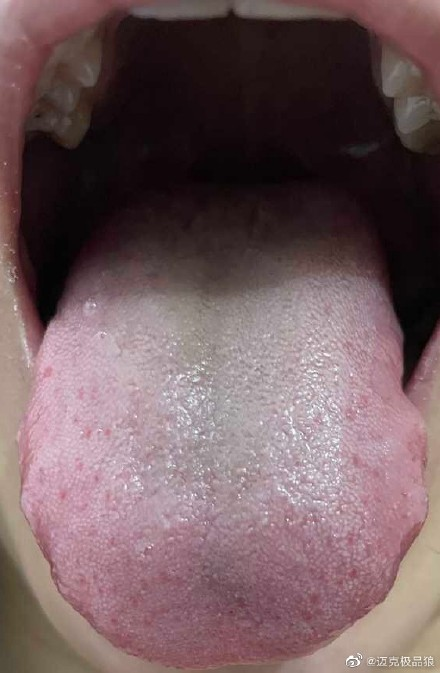hongdianshe: (348, 565, 359, 580), (102, 424, 112, 440)
huangtaishe: (17, 181, 428, 668)
